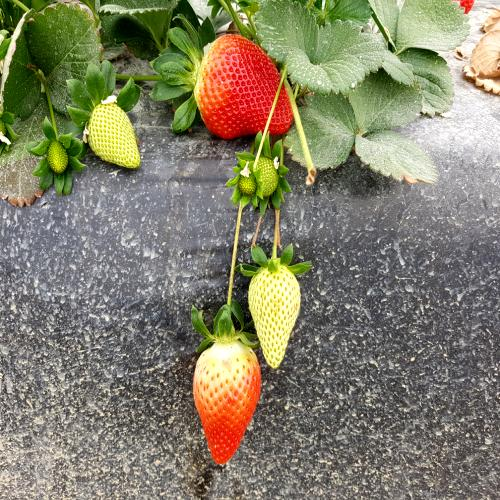partially-ripe: (193, 331, 263, 469)
ripe: (193, 31, 296, 148)
